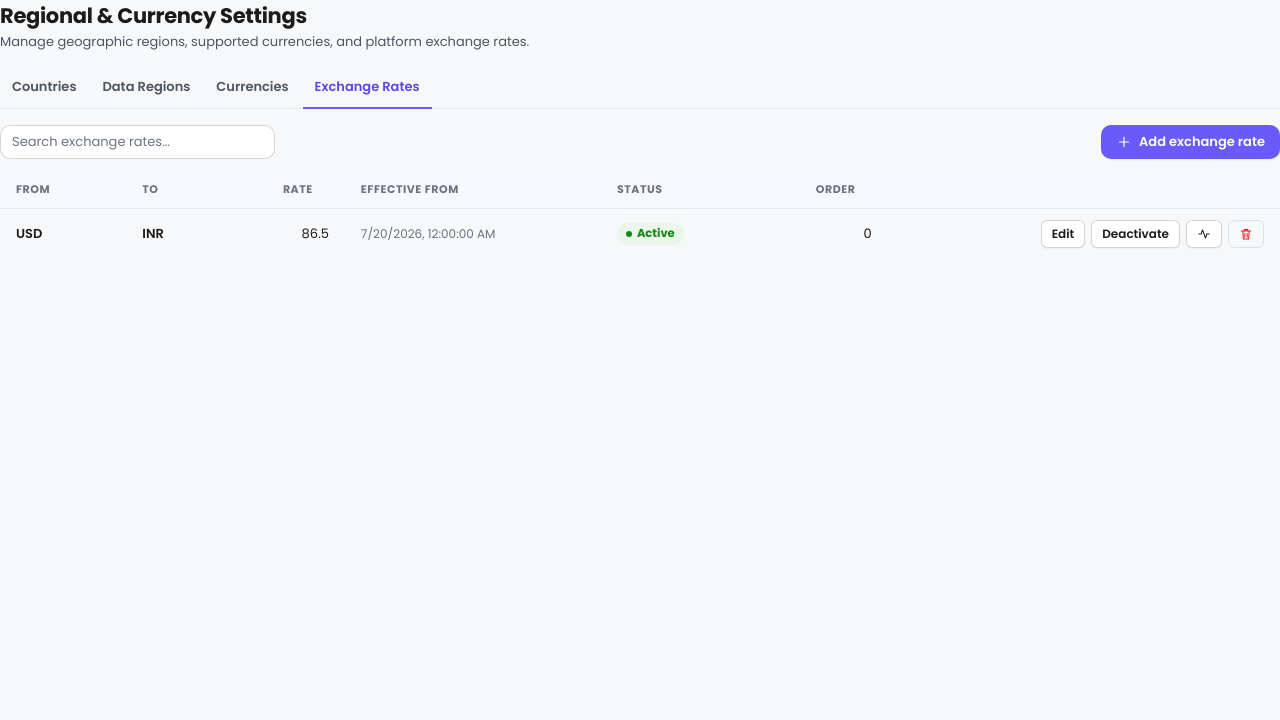
Test: RegionalSettings — Exchange Rates › shows field-level validation errors from the API on the rate field
Click the button "Add exchange rate" at [1190, 142], box top-left (1101, 125), bottom-right (1279, 159)
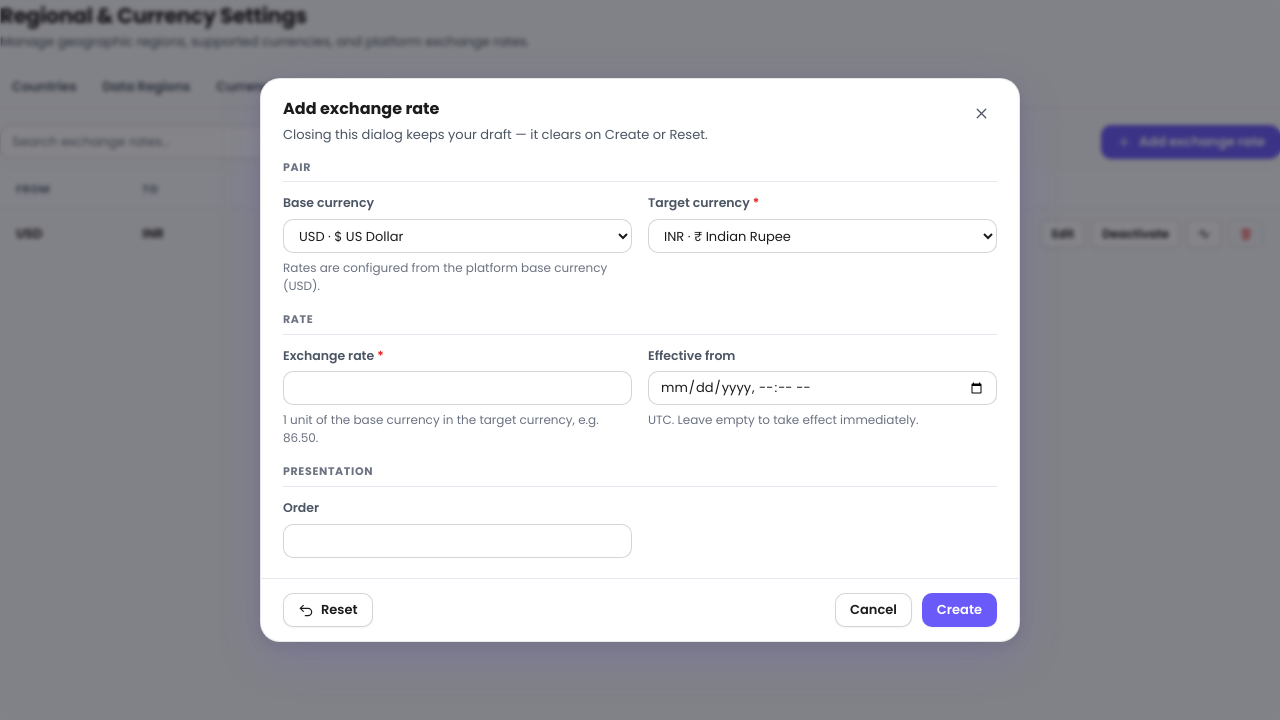
Check: the dialog "Add exchange rate" is shown, box top-left (260, 78), bottom-right (1020, 642)
Type "0" into the number field labelled "Exchange rate" at [458, 388], box top-left (283, 371), bottom-right (632, 405)
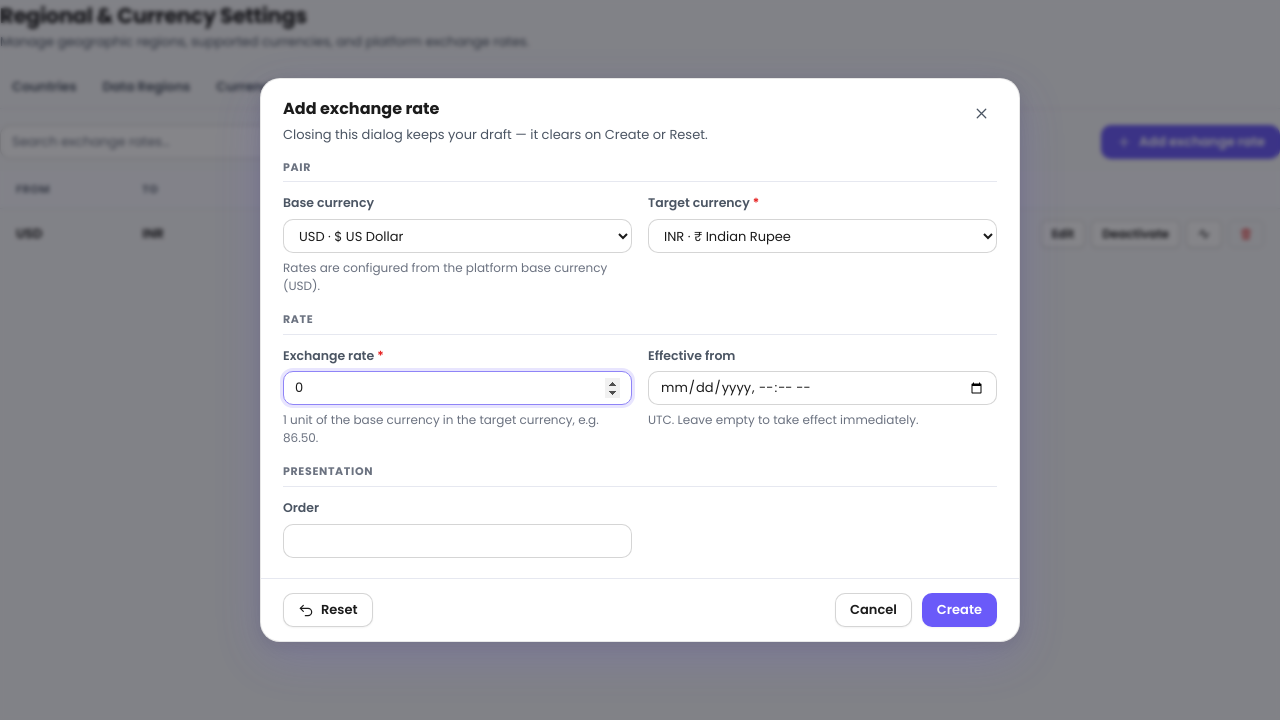
Click the button "Create" at [959, 610], box top-left (922, 593), bottom-right (997, 627)
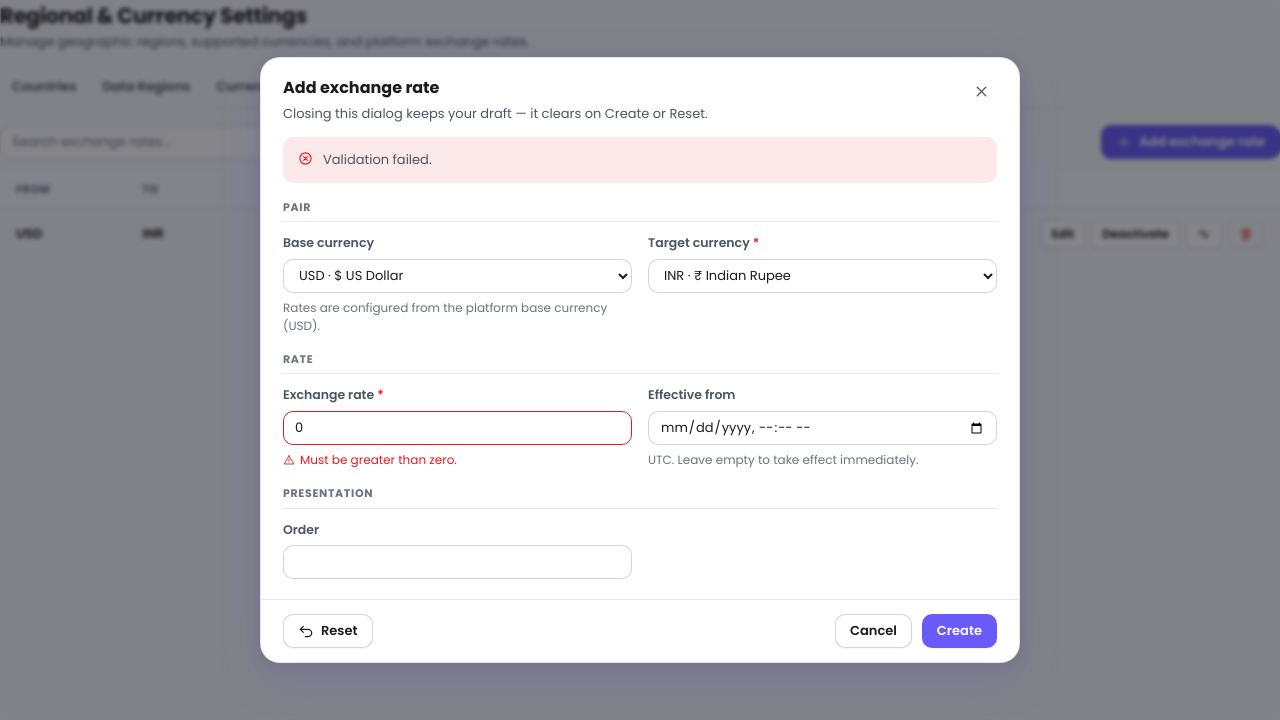
Check: the text "Must be greater than zero." is shown, box top-left (283, 451), bottom-right (457, 468)
